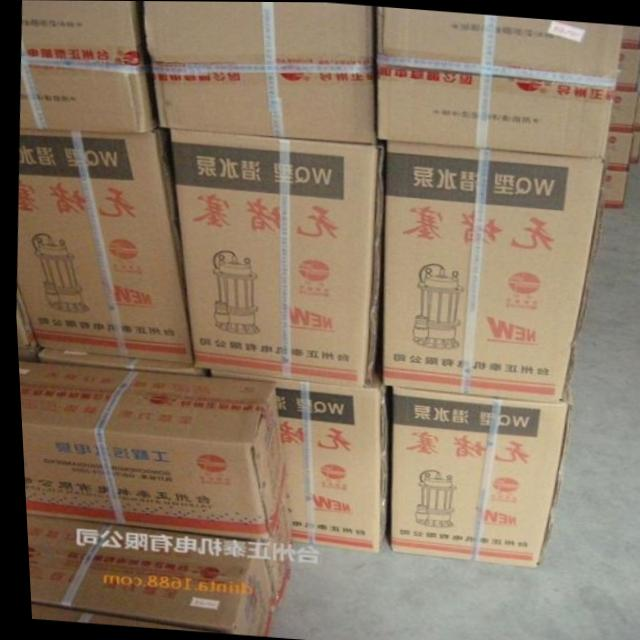box: (377, 141, 605, 402), (165, 130, 382, 388), (15, 359, 285, 537), (14, 128, 192, 362), (376, 7, 624, 158), (138, 1, 377, 146), (204, 369, 386, 550), (383, 388, 567, 565), (21, 514, 271, 633), (19, 0, 157, 135), (257, 473, 288, 601), (31, 350, 200, 373), (598, 162, 625, 207), (610, 86, 638, 129), (614, 44, 640, 87), (605, 128, 630, 165), (620, 25, 640, 45), (628, 130, 640, 161), (631, 90, 640, 129)
